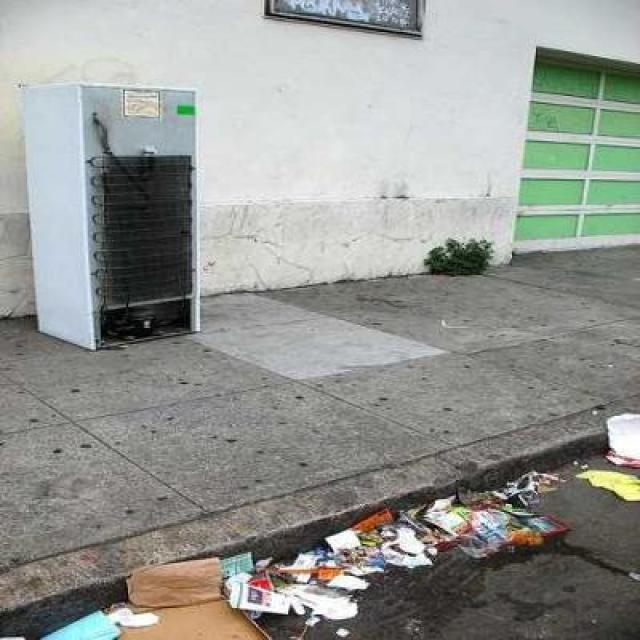refrigerator: (24, 83, 202, 350)
